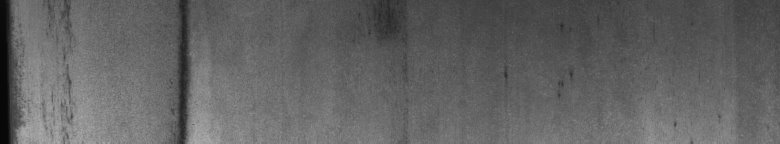hd: (173, 4, 194, 136)
